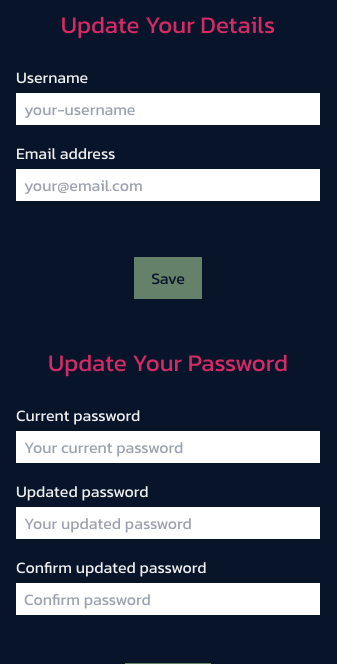
it: Profile tests: › Update user tests: › It should display a loading spinner while the user service is loading
Type "new-username" into the field titled "username" at point(168, 109), box 16,93 -> 320,125
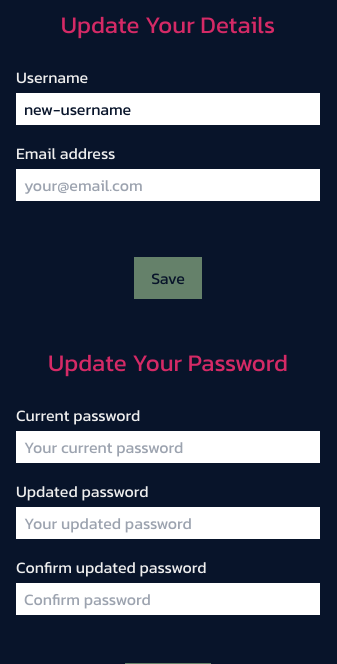
Type "new@emailaddress.com" into the field titled "email address" at point(168, 185), box 16,169 -> 320,201
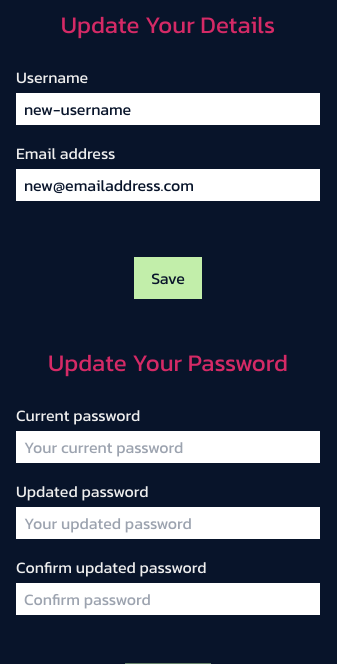
Click the button titled "submit" at point(168, 278), box 134,257 -> 202,299
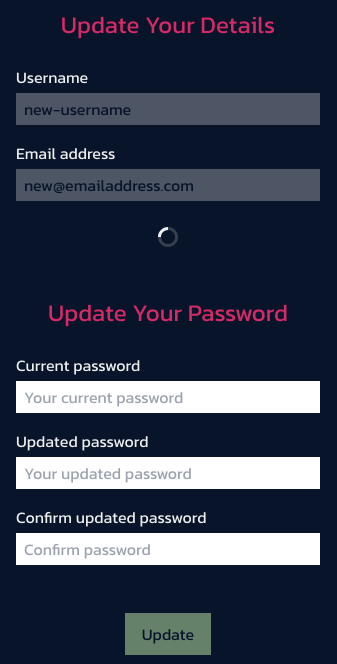
Expected: the message is shown, 156,225 -> 180,249
